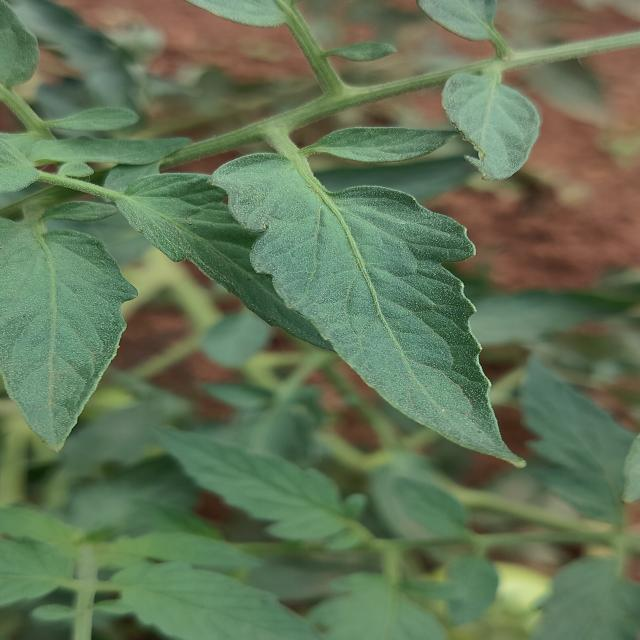tomato_healthy: (217, 148, 528, 458), (0, 0, 247, 204), (9, 218, 144, 447), (157, 430, 370, 550), (423, 53, 572, 190), (110, 563, 319, 640), (371, 453, 466, 540), (301, 126, 458, 162)
